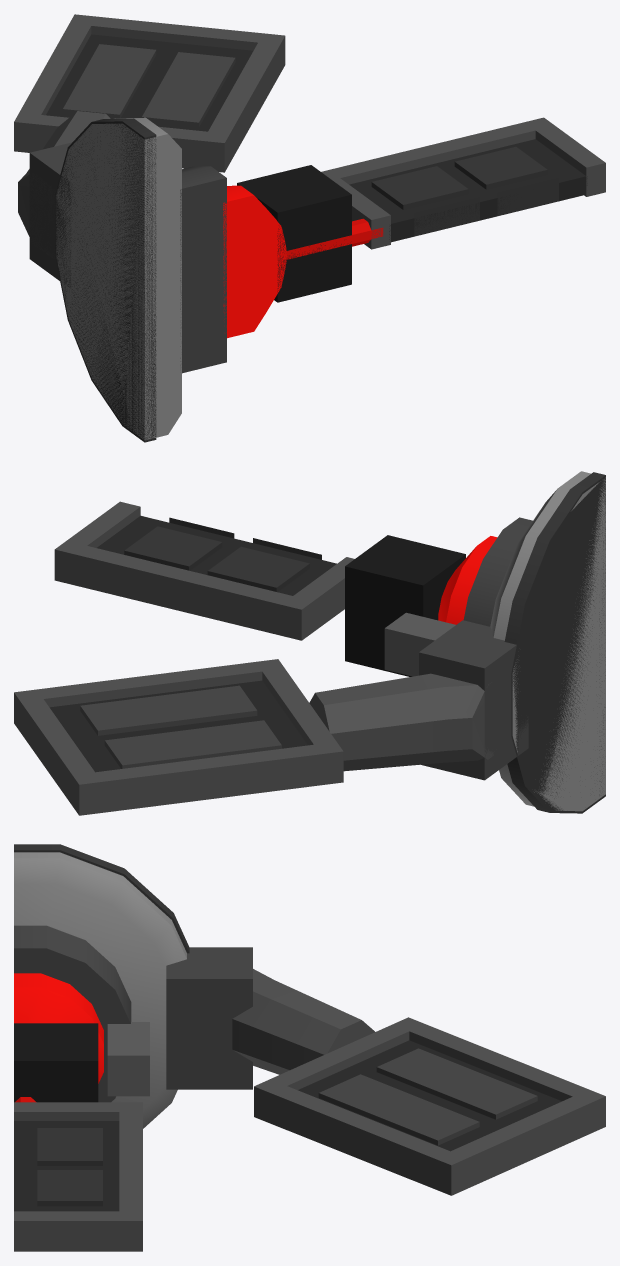
File: newshl-9.glb
3 renders of one model, top to bottom at view 1: azimuth 30°, elevation 25°; view 2: azimuth 150°, elevation 25°; view 3: azimuth 270°, elevation 25°, orthographic. The views are drawn at different scales.
Parts seen in each view (by area): view 1: newshl-9; view 2: newshl-9; view 3: newshl-9.
Part boxes in pixels (x1,y1,x2,y2): newshl-9: (14,14,605,442); newshl-9: (14,471,605,815); newshl-9: (14,844,605,1251).
Bounding box in the file's own units: 1.97 × 1.24 × 2.11.
